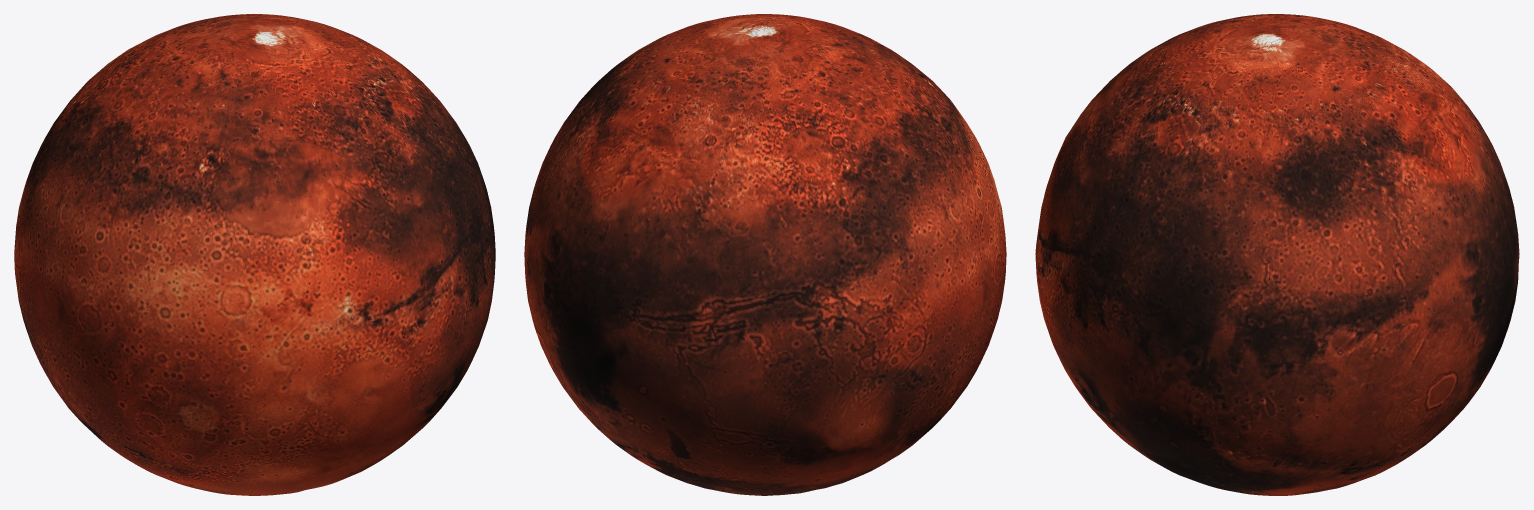
The model's file is mars.glb.
3 renders of one model, left to right at view 1: azimuth 30°, elevation 25°; view 2: azimuth 150°, elevation 25°; view 3: azimuth 270°, elevation 25°, orthographic.
Parts seen in each view (by area): view 1: mars; view 2: mars; view 3: mars.
Boxes of the visible parts, <box> form: mars: <box>14,14,495,495</box>; mars: <box>524,14,1006,495</box>; mars: <box>1035,14,1519,495</box>.
Bounding box in the file's own units: 2 × 2 × 2.01.
1 material, 1 textured.
